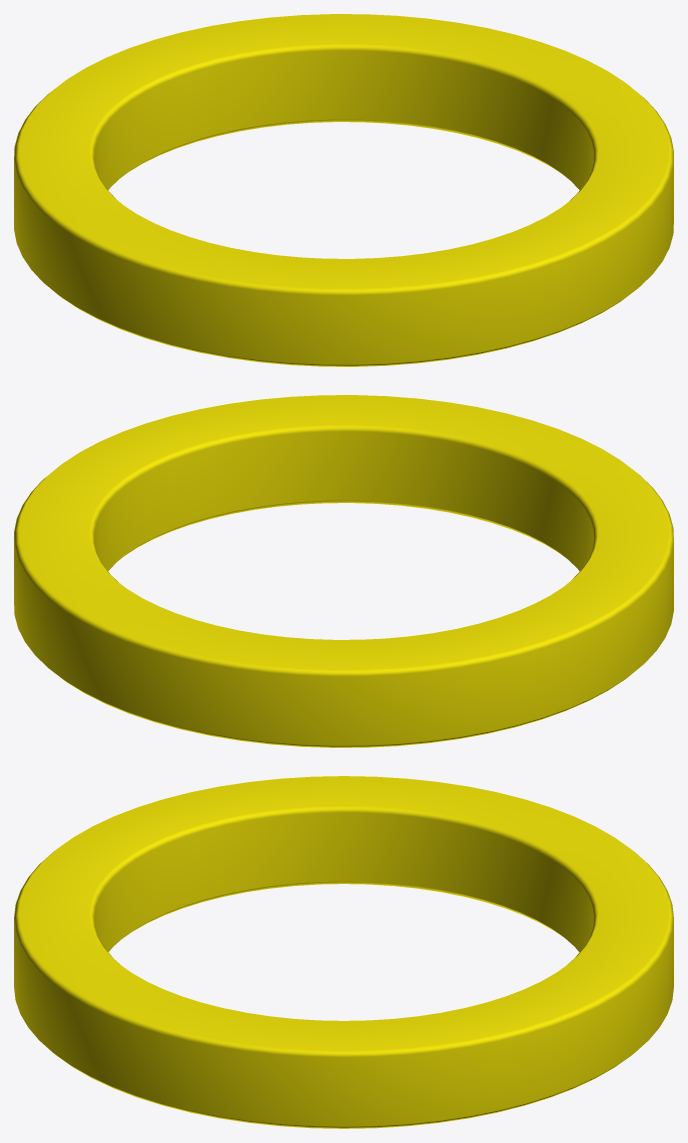
3 renders of one model, top to bottom at view 1: azimuth 30°, elevation 25°; view 2: azimuth 150°, elevation 25°; view 3: azimuth 270°, elevation 25°, orthographic.
Parts seen in each view (by area): view 1: seal_body; view 2: seal_body; view 3: seal_body.
Boxes of the visible parts, x1,y1,x2,y2 form: seal_body: (14, 14, 673, 366); seal_body: (14, 395, 673, 747); seal_body: (14, 776, 673, 1128).
Bounding box in the file's own units: 0.084 × 0.011 × 0.084.
